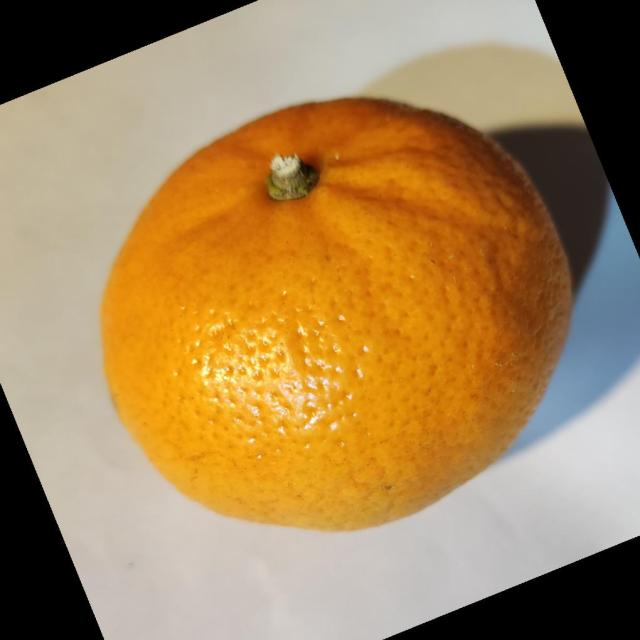fresh orange: (99, 95, 574, 532)
